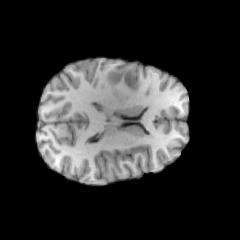glioma: (106, 65, 142, 99)
